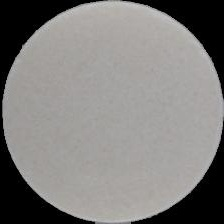50436-4622: (0, 0, 224, 224)
